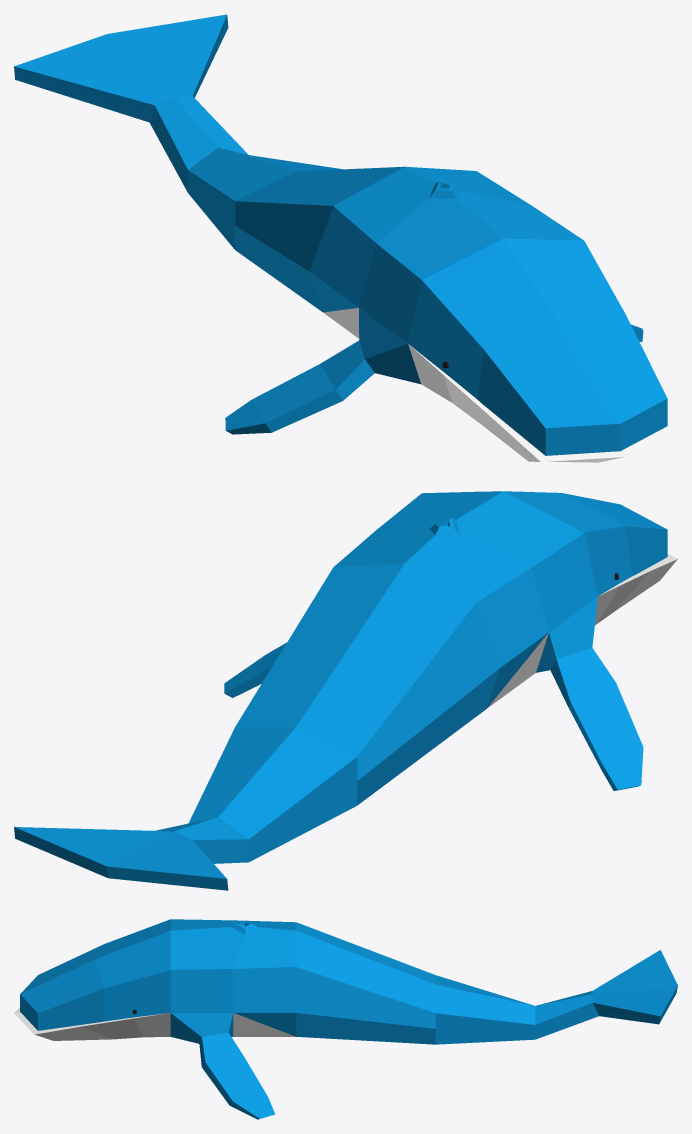
The model's file is Whale_01.obj.
The picture shows the model from 3 angles, top to bottom: view 1: azimuth 30°, elevation 25°; view 2: azimuth 150°, elevation 25°; view 3: azimuth 270°, elevation 25°; orthographic projection. The views are drawn at different scales.
Parts seen in each view (by area): view 1: Whale_01_Cube.030; view 2: Whale_01_Cube.030; view 3: Whale_01_Cube.030.
Boxes of the visible parts, x1=… form: Whale_01_Cube.030: x1=14, y1=14, x2=677, y2=462; Whale_01_Cube.030: x1=14, y1=491, x2=677, y2=890; Whale_01_Cube.030: x1=14, y1=919, x2=677, y2=1119.
Bounding box in the file's own units: 16.78 × 7.97 × 36.15.
